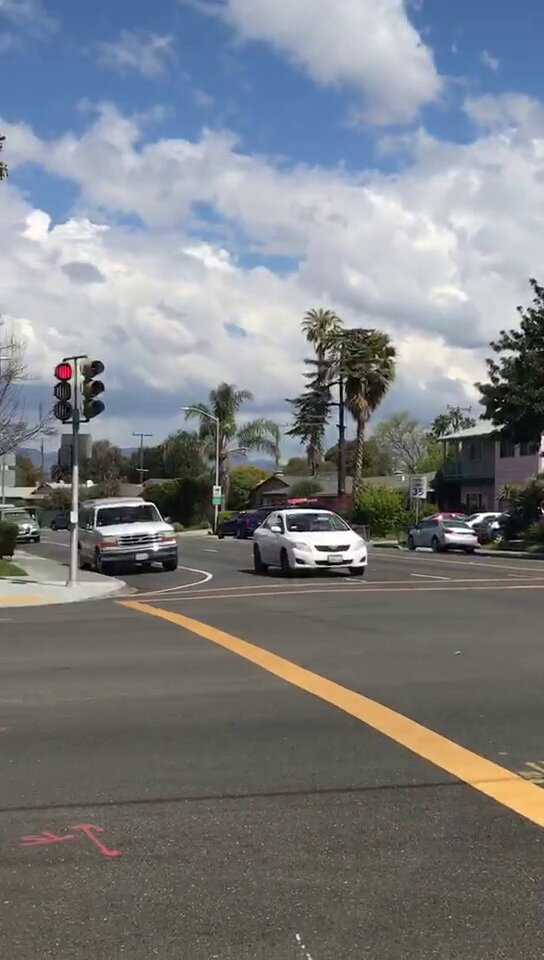red_light: (52, 362, 74, 417)
